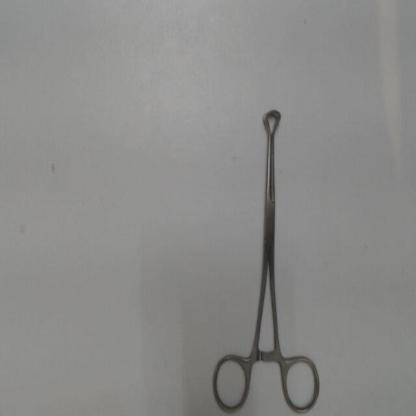Babcock Tissue Forceps: (210, 104, 324, 414)
